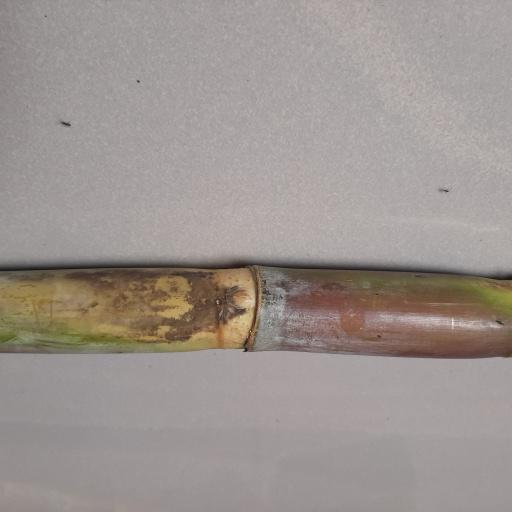Bud: (226, 284, 252, 309)
